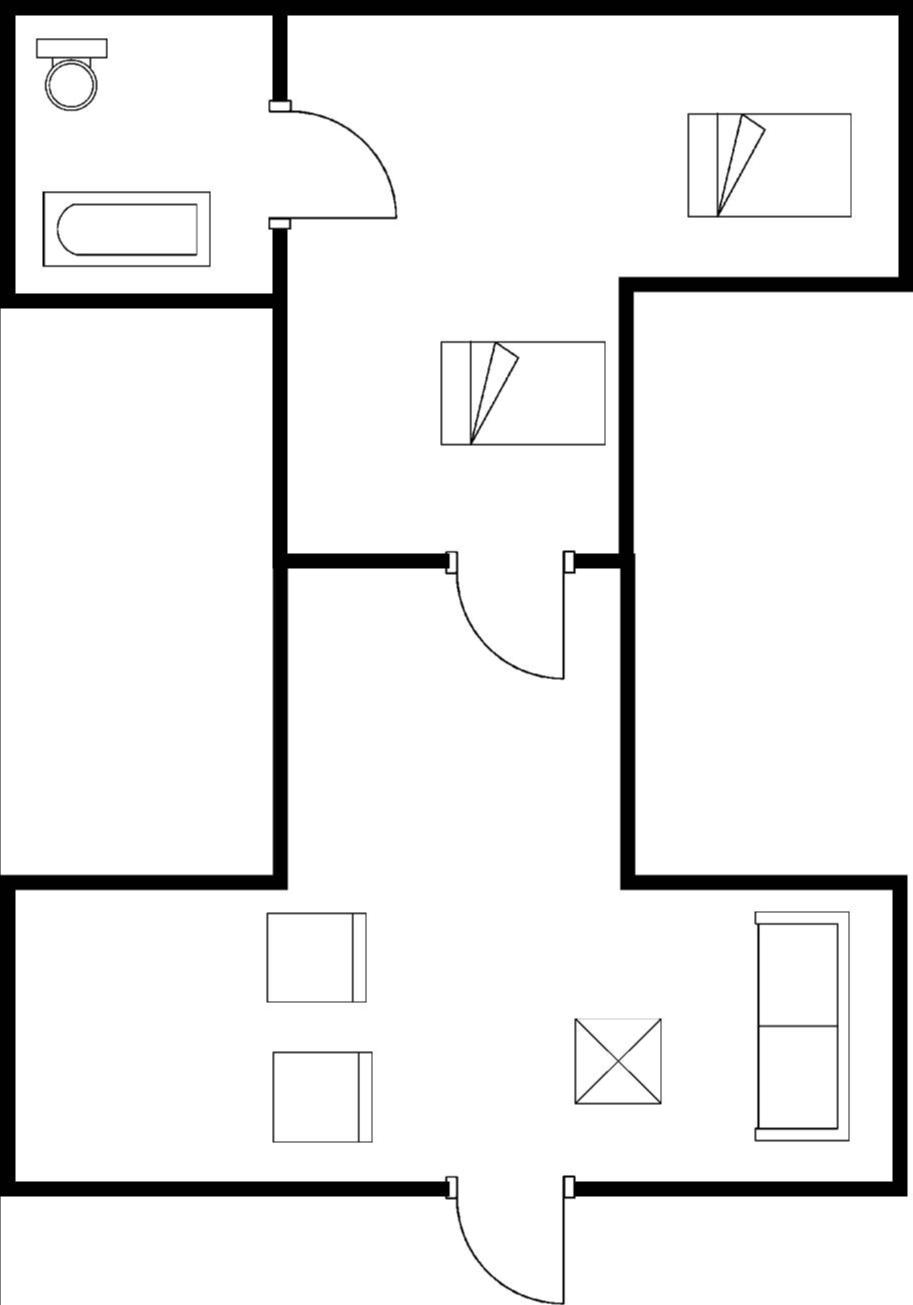bed: (426, 328, 612, 454), (674, 104, 858, 227)
sofa: (739, 897, 860, 1154)
toilet: (27, 31, 118, 118)
tub: (34, 184, 219, 276)
